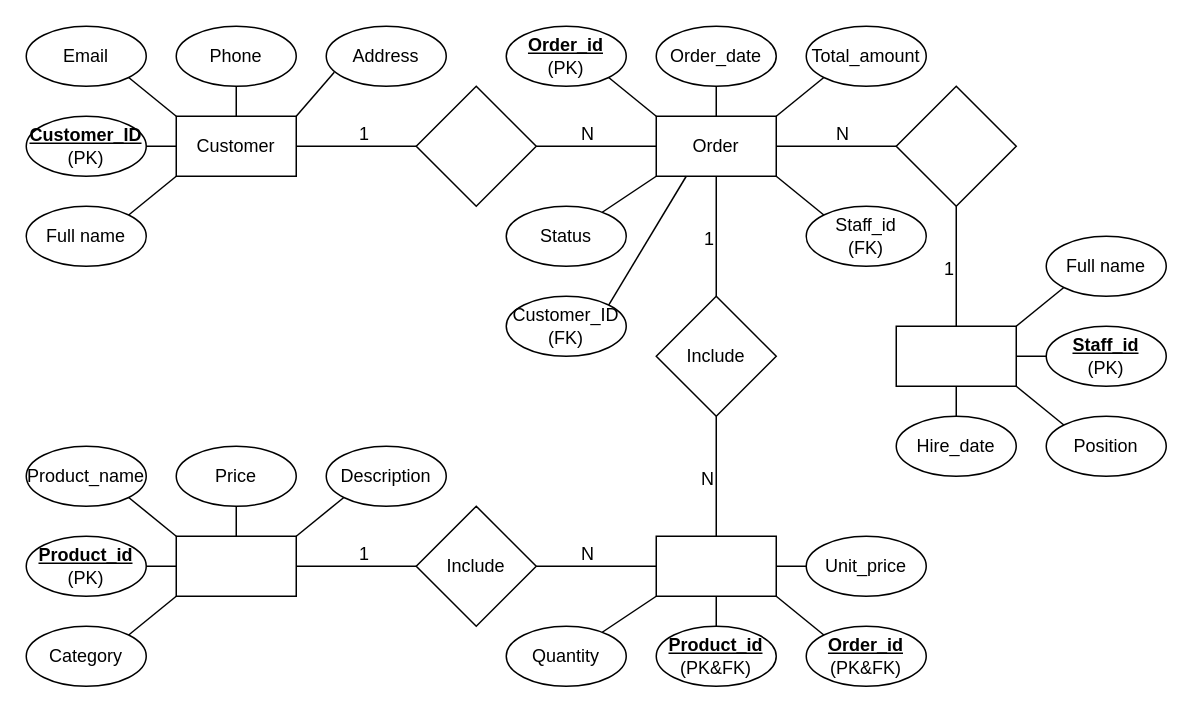
Some shapes in this 1193 by 713 pixel diagram are drawn without their labels. Each missing label, with the box of its shape:
Buy: (415, 85, 536, 206)
OrderDetail: (655, 535, 776, 596)
Process: (895, 85, 1016, 206)
Product: (175, 535, 296, 596)
Staff: (895, 325, 1016, 386)
